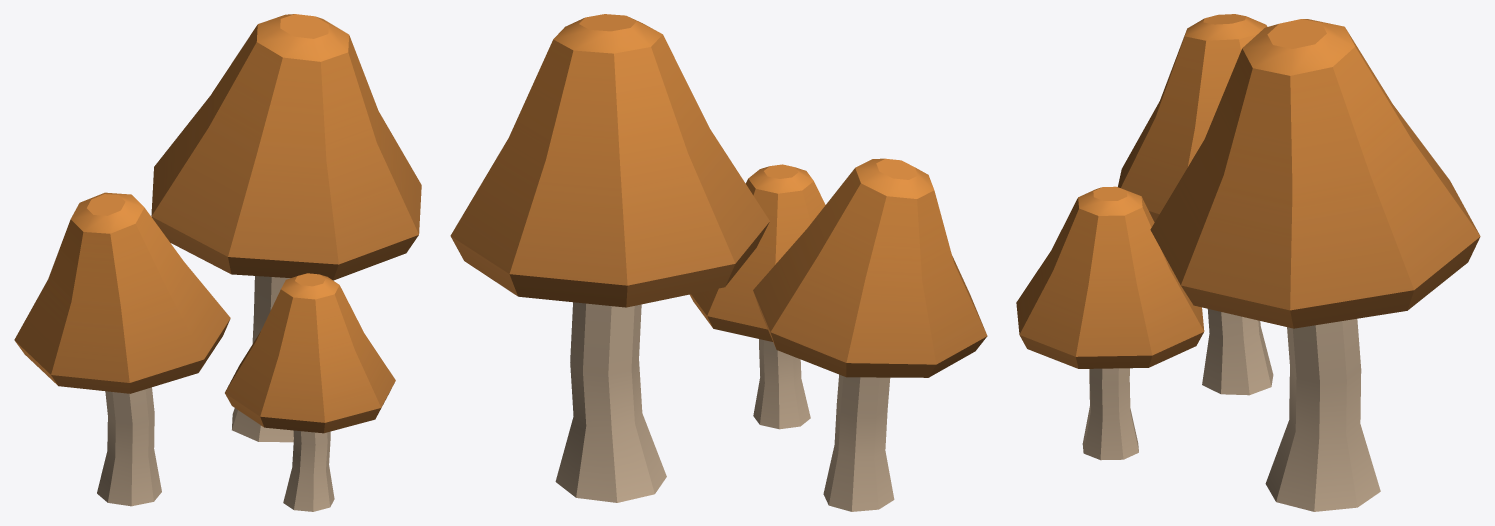
Rendered from Spring_Mushroom_02.glb.
3 views of the same model, side by side, from view 1: azimuth 30°, elevation 25°; view 2: azimuth 150°, elevation 25°; view 3: azimuth 270°, elevation 25° (orthographic). The views are drawn at different scales.
Visible parts, largest first — view 1: Spring_Mushroom_02_LOD0; view 2: Spring_Mushroom_02_LOD0; view 3: Spring_Mushroom_02_LOD0.
Part boxes in pixels (box(x1,y1,x2,y2)): Spring_Mushroom_02_LOD0: box(14, 14, 421, 511); Spring_Mushroom_02_LOD0: box(450, 14, 987, 511); Spring_Mushroom_02_LOD0: box(1016, 14, 1480, 511).
Size of what is drawn, in the model's own units: 0.3154 by 0.2952 by 0.2668.
1 material, 1 textured.
